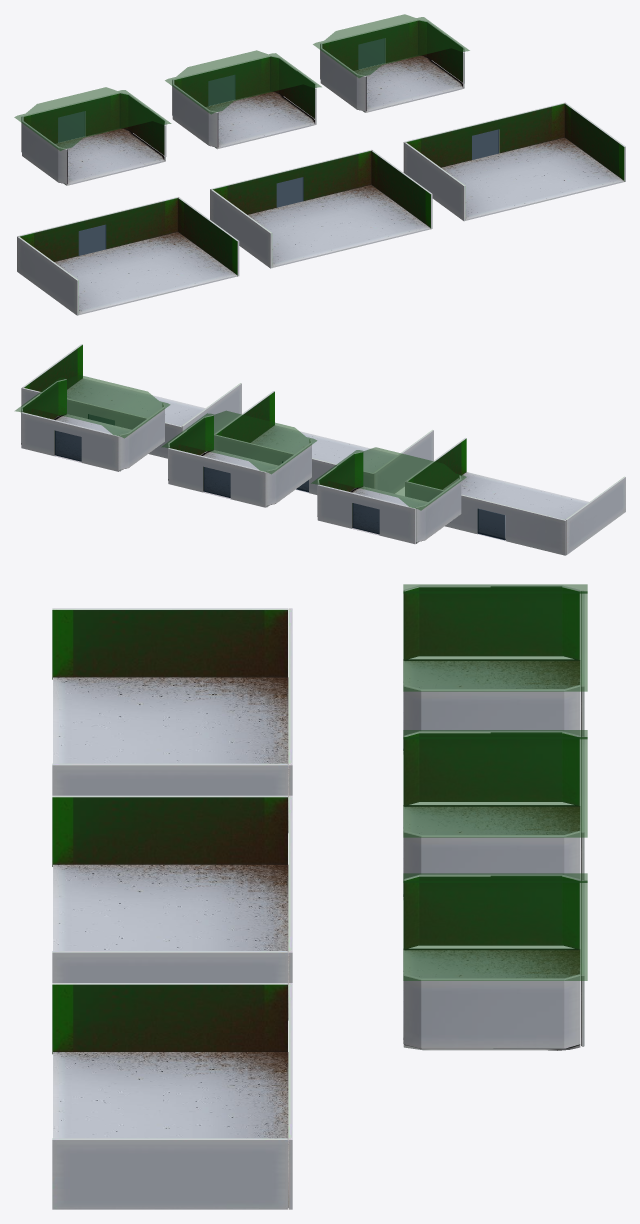
3 renders of one model, top to bottom at view 1: azimuth 30°, elevation 25°; view 2: azimuth 150°, elevation 25°; view 3: azimuth 270°, elevation 25°, orthographic. The views are drawn at different scales.
Parts seen in each view (by area): view 1: polySurface23, polySurface8, polySurface11, pPlane2, pPlane3, pPlane1, polySurface5, polySurface22, polySurface10, polySurface14, polySurface18, polySurface3 (+21 smaller); view 2: pPlane2, pPlane1, pPlane3, polySurface10, polySurface11, polySurface20, polySurface16, polySurface1, polySurface23, polySurface8, polySurface12, polySurface5 (+19 smaller); view 3: polySurface8, polySurface11, polySurface23, pPlane1, pPlane2, pPlane3, polySurface24, polySurface7, polySurface12, polySurface25, polySurface19, polySurface9 (+12 smaller).
Boxes of the visible parts, left/top/right/bottom form: polySurface23: left=441, top=137, right=623, bottom=220; polySurface8: left=248, top=184, right=430, bottom=267; polySurface11: left=54, top=232, right=237, bottom=314; pPlane2: left=165, top=50, right=321, bottom=114; pPlane3: left=313, top=14, right=469, bottom=77; pPlane1: left=14, top=87, right=171, bottom=150; polySurface5: left=210, top=149, right=372, bottom=219; polySurface22: left=403, top=102, right=565, bottom=172; polySurface10: left=17, top=197, right=179, bottom=271; polySurface14: left=206, top=91, right=316, bottom=149; polySurface18: left=354, top=55, right=464, bottom=112; polySurface3: left=55, top=128, right=165, bottom=185; pPlane2: left=161, top=410, right=316, bottom=474; pPlane1: left=311, top=447, right=466, bottom=510; pPlane3: left=15, top=375, right=170, bottom=438; polySurface10: left=405, top=481, right=566, bottom=555; polySurface11: left=442, top=472, right=588, bottom=539; polySurface20: left=21, top=412, right=119, bottom=471; polySurface16: left=168, top=448, right=266, bottom=507; polySurface1: left=317, top=484, right=415, bottom=544; polySurface23: left=67, top=378, right=205, bottom=425; polySurface8: left=251, top=425, right=397, bottom=491; polySurface12: left=565, top=476, right=625, bottom=554; polySurface5: left=214, top=434, right=374, bottom=494; polySurface8: left=53, top=864, right=288, bottom=1020; polySurface11: left=53, top=677, right=288, bottom=832; polySurface23: left=53, top=1052, right=288, bottom=1207; pPlane1: left=403, top=584, right=587, bottom=691; pPlane2: left=403, top=730, right=587, bottom=837; pPlane3: left=403, top=873, right=587, bottom=980; polySurface24: left=52, top=1138, right=287, bottom=1209; polySurface7: left=52, top=795, right=287, bottom=866; polySurface12: left=52, top=608, right=287, bottom=679; polySurface25: left=52, top=983, right=287, bottom=1054; polySurface19: left=403, top=974, right=580, bottom=1048; polySurface9: left=403, top=585, right=580, bottom=660.
Size of the model in its own units: 126 by 19.67 by 53.43.
3 materials, 1 textured.
